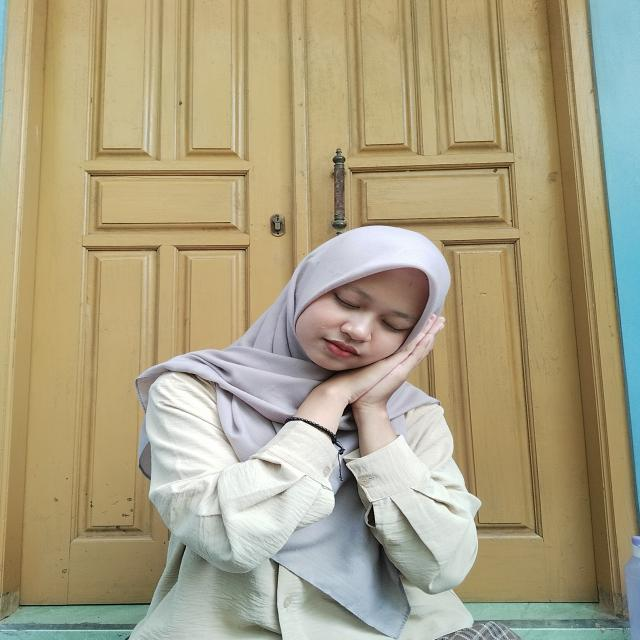tidur: (279, 309, 450, 429)
